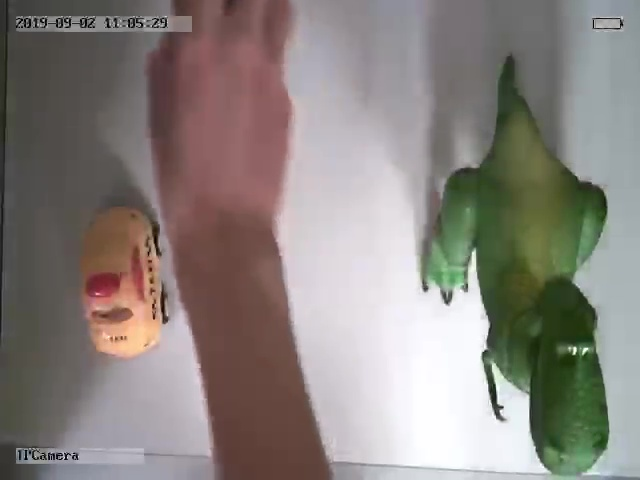car: (78, 201, 170, 359)
rex: (420, 73, 610, 476)
